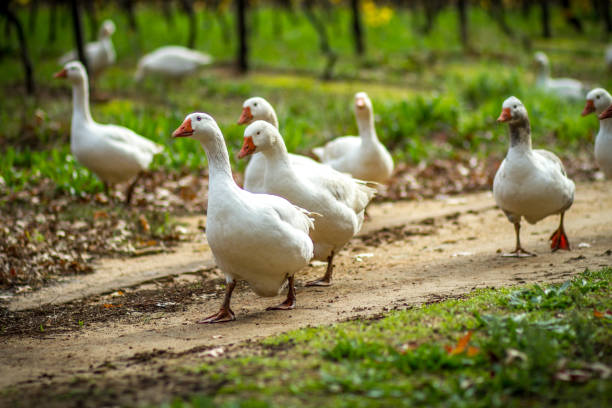goose: (171, 111, 299, 316), (235, 119, 367, 285), (55, 60, 157, 215), (493, 92, 576, 256), (314, 87, 397, 189), (578, 85, 612, 178), (235, 92, 278, 125)
